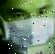with_mask: (1, 1, 55, 54)
